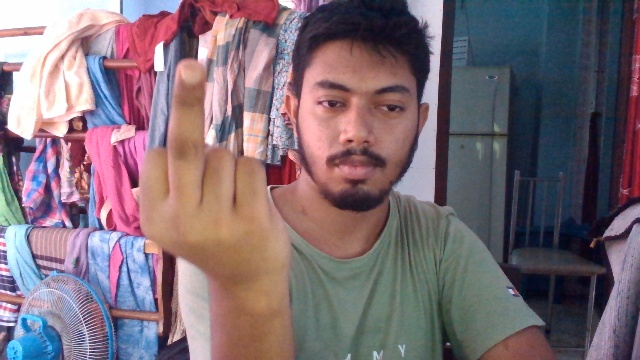fucku: (127, 52, 297, 299)
